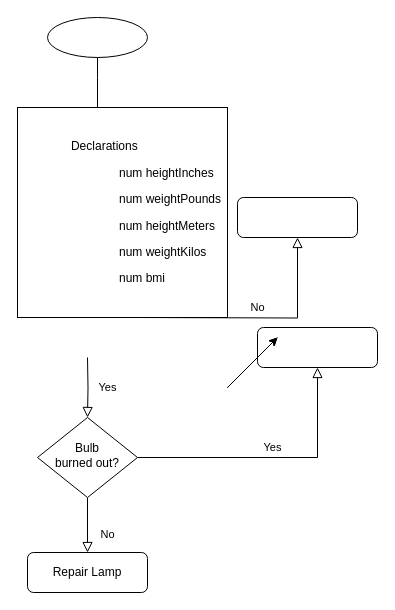
Some shapes in this 395 by 610 pixel diagram are drawn without their labels. Each missing label, with the centre of its shape:
Plug in lamp: pixel 297 217
Replace Bulb: pixel 317 347
